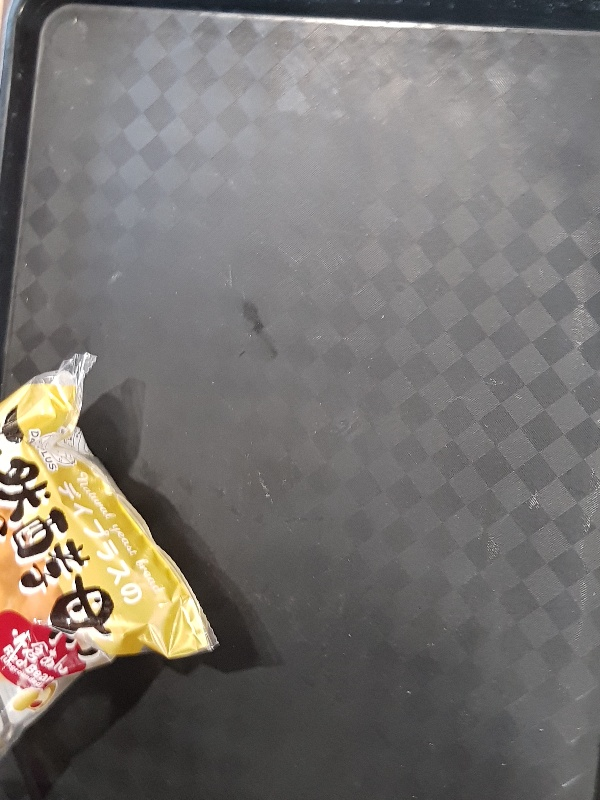Dayplus Red Bean: (1, 350, 218, 758)
